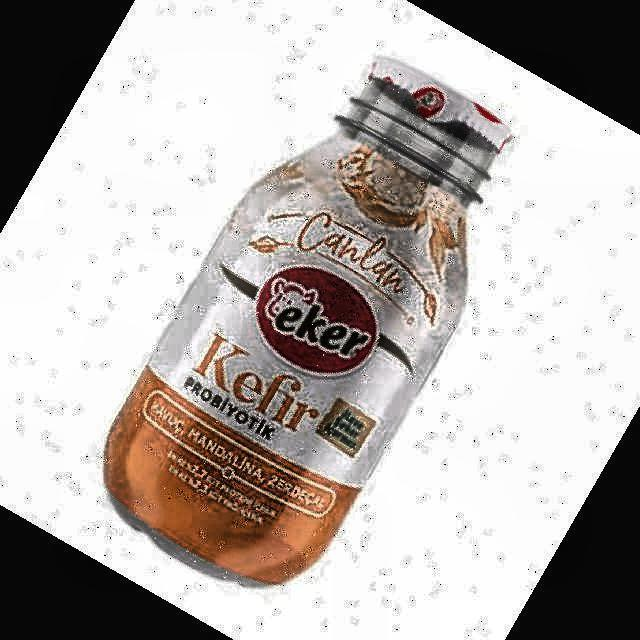plastic: (105, 59, 511, 584)
